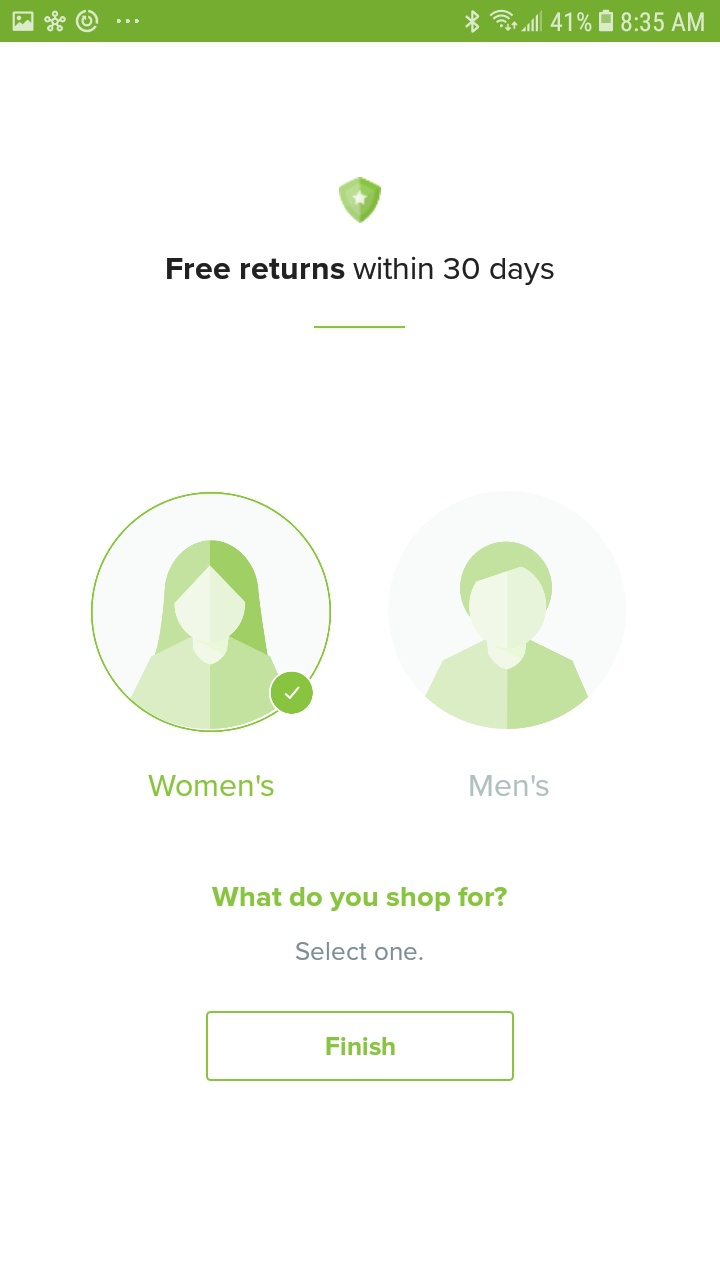Image: (91, 492, 333, 733), (388, 491, 626, 730), (339, 177, 383, 225)
Text: (167, 256, 555, 286), (212, 886, 508, 912), (148, 774, 275, 798), (296, 941, 424, 961), (470, 775, 550, 798)
TextButton: (206, 1010, 515, 1082)
UpperTaskBar: (1, 1, 720, 43)
